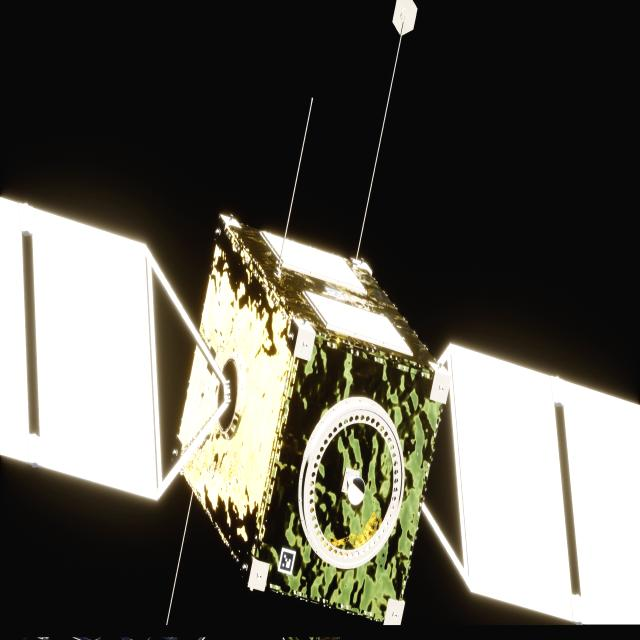satellite: (0, 197, 640, 628)
